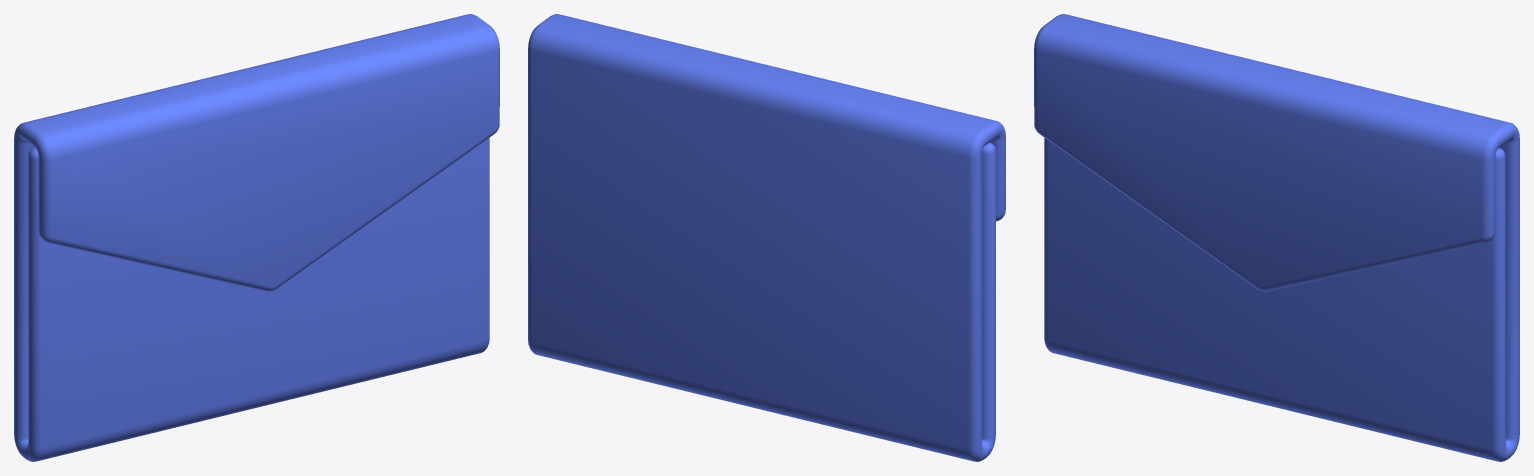
The model's file is contact.glb.
The picture shows the model from 3 angles, left to right: view 1: azimuth 30°, elevation 25°; view 2: azimuth 150°, elevation 25°; view 3: azimuth 330°, elevation 25°; orthographic projection.
Parts seen in each view (by area): view 1: Cube; view 2: Cube; view 3: Cube.
Boxes of the visible parts, <box> form: Cube: <box>14,14,499,461</box>; Cube: <box>528,14,1005,461</box>; Cube: <box>1034,14,1519,461</box>.
Bounding box in the file's own units: 3.72 × 2.6 × 0.4755.
